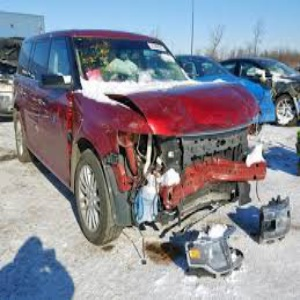bonnet: (121, 78, 257, 126)
bumper: (121, 140, 255, 217)
